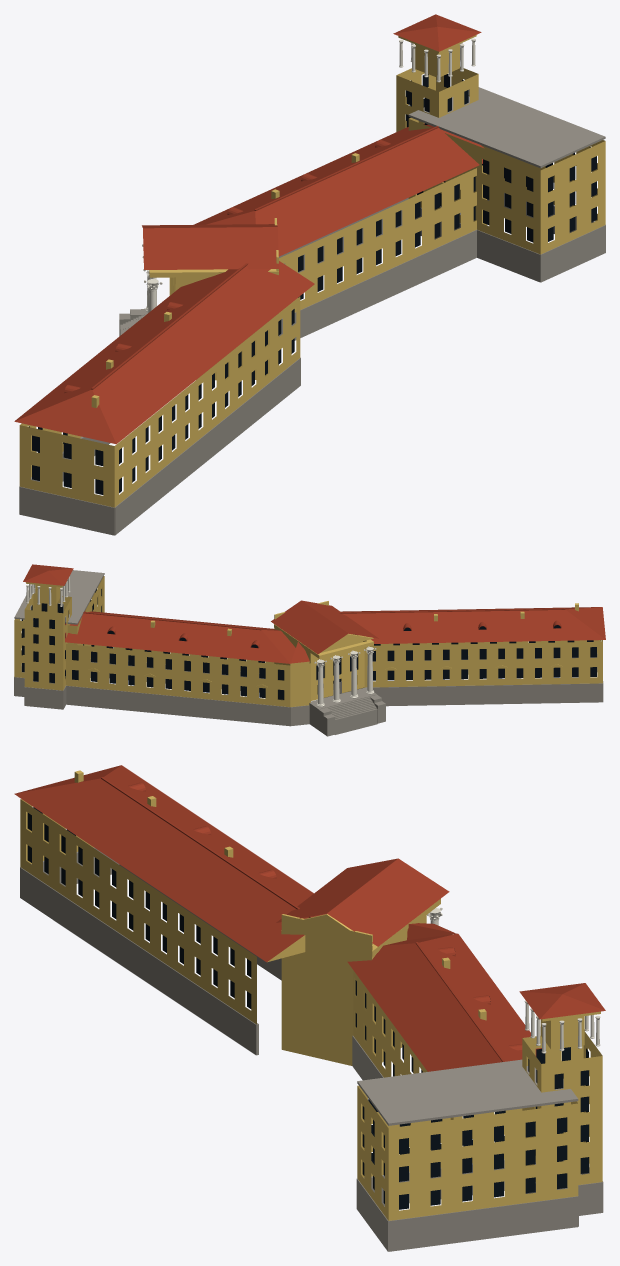
The model's file is hospital.lod.glb.
The picture shows the model from 3 angles, top to bottom: view 1: azimuth 30°, elevation 25°; view 2: azimuth 150°, elevation 25°; view 3: azimuth 270°, elevation 25°; orthographic projection. The views are drawn at different scales.
Visible parts, largest first — view 1: hospital_roof, hospital_wall, hospital_stone, hospital_glass, hospital_trim_s; view 2: hospital_wall, hospital_roof, hospital_stone, hospital_glass, hospital_trim_s; view 3: hospital_wall, hospital_roof, hospital_stone, hospital_glass, hospital_trim_s.
Part boxes in pixels (x1=…): hospital_roof: x1=14, y1=14, x2=484, y2=444; hospital_wall: x1=19, y1=35, x2=605, y2=507; hospital_stone: x1=19, y1=87, x2=605, y2=535; hospital_glass: x1=29, y1=74, x2=596, y2=494; hospital_trim_s: x1=142, y1=38, x2=475, y2=313; hospital_wall: x1=14, y1=576, x2=602, y2=707; hospital_roof: x1=23, y1=564, x2=605, y2=663; hospital_stone: x1=14, y1=570, x2=603, y2=736; hospital_glass: x1=21, y1=589, x2=596, y2=699; hospital_trim_s: x1=26, y1=575, x2=376, y2=706; hospital_wall: x1=20, y1=770, x2=602, y2=1220; hospital_roof: x1=14, y1=765, x2=605, y2=1071; hospital_stone: x1=20, y1=847, x2=603, y2=1251; hospital_glass: x1=27, y1=807, x2=588, y2=1209; hospital_trim_s: x1=427, y1=907, x2=600, y2=1053.
Bounding box in the file's own units: 106 × 27.17 × 69.17.
